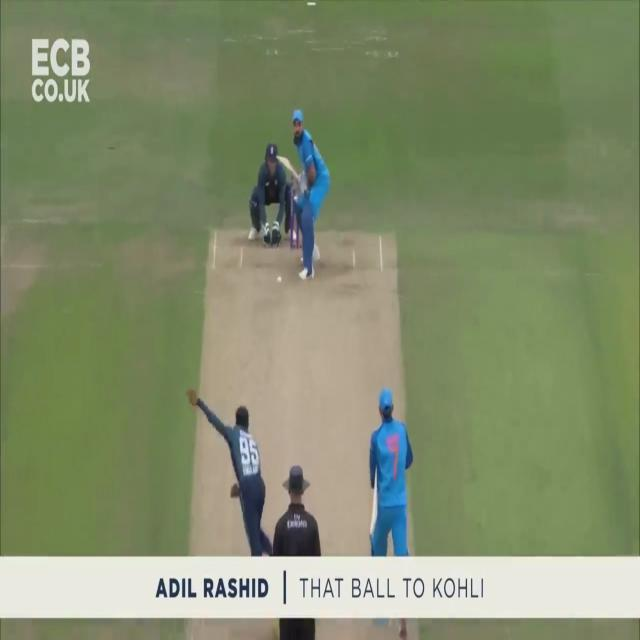cricketBall: (278, 277, 281, 283)
